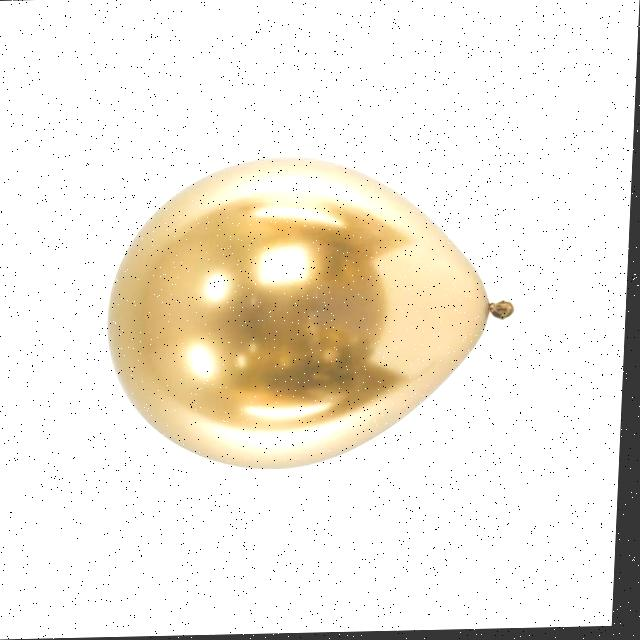balloon: (97, 147, 520, 475)
